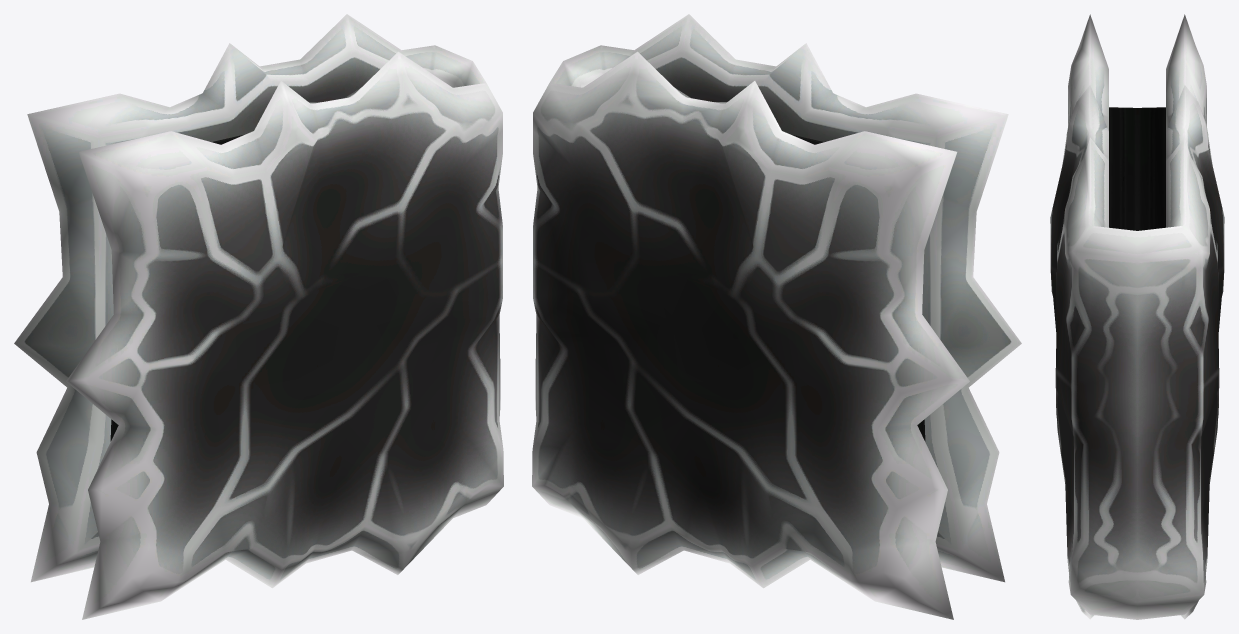
File: item_weabokmgm2501-et07.glb
The picture shows the model from 3 angles, left to right: view 1: azimuth 30°, elevation 25°; view 2: azimuth 150°, elevation 25°; view 3: azimuth 270°, elevation 25°; orthographic projection. The views are drawn at different scales.
Visible parts, largest first — view 1: FlyffMesh; view 2: FlyffMesh; view 3: FlyffMesh.
Part boxes in pixels (left/top/right/bottom): FlyffMesh: left=14, top=14, right=503, bottom=619; FlyffMesh: left=532, top=14, right=1021, bottom=619; FlyffMesh: left=1050, top=14, right=1224, bottom=619.
Bounding box in the file's own units: 0.5095 × 0.57 × 0.1864.
Materials: 1 (1 with a texture image).
